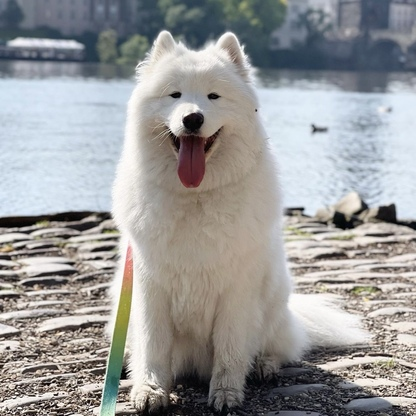samoyed: (98, 22, 377, 416)
